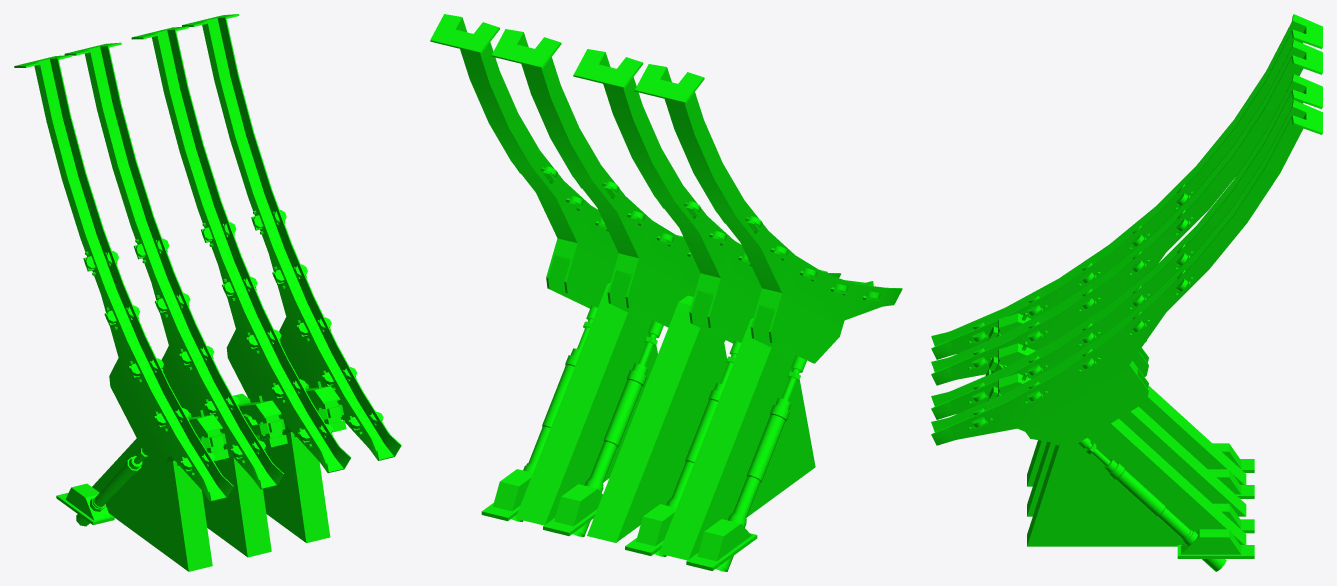
The model's file is Casting_Curve.fbx.
3 renders of one model, left to right at view 1: azimuth 30°, elevation 25°; view 2: azimuth 150°, elevation 25°; view 3: azimuth 270°, elevation 25°, orthographic. The views are drawn at different scales.
Visible parts, largest first — view 1: Casting_Curve_LOD0; view 2: Casting_Curve_LOD0; view 3: Casting_Curve_LOD0.
Boxes of the visible parts, x1,y1,x2,y2 form: Casting_Curve_LOD0: [14, 14, 401, 571]; Casting_Curve_LOD0: [430, 14, 902, 571]; Casting_Curve_LOD0: [931, 14, 1322, 571].
Size of what is drawn, in the model's own units: 318 by 625 by 482.
